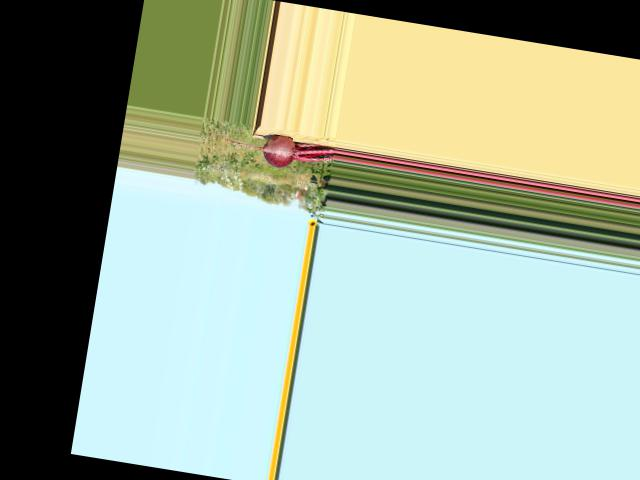beet: (201, 122, 337, 175)
